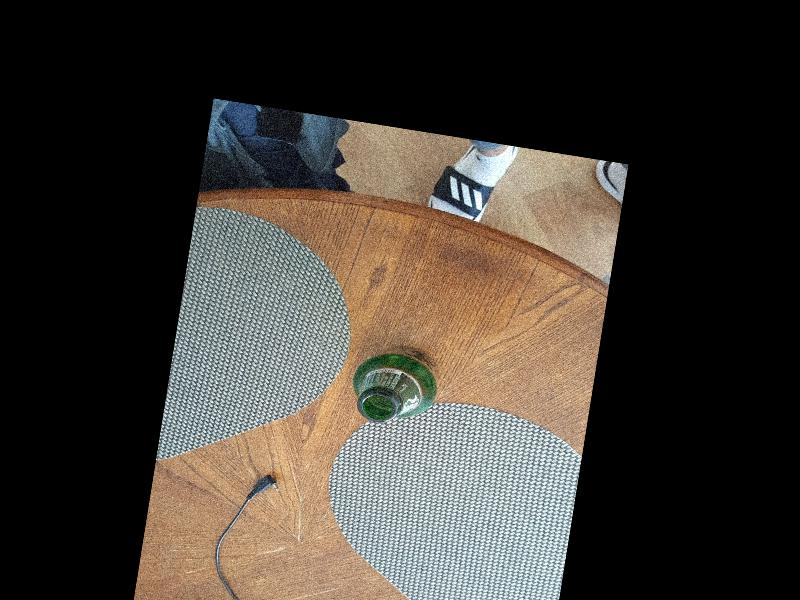Beer: (346, 339, 442, 430)
